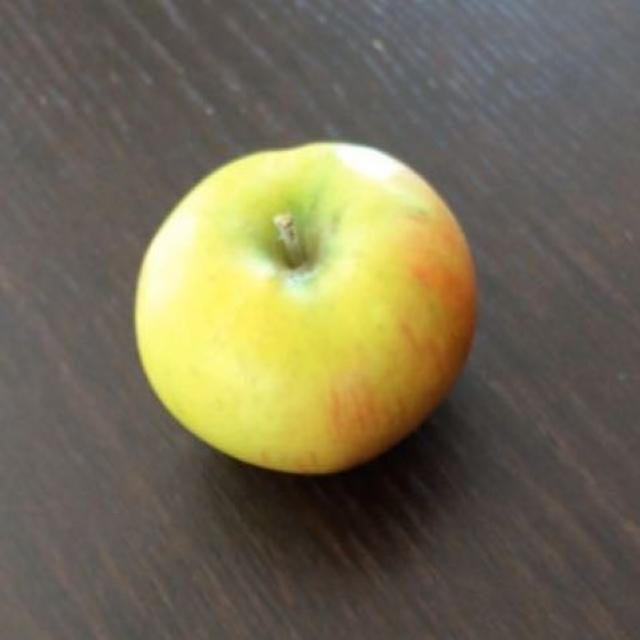apple: (133, 148, 468, 471)
